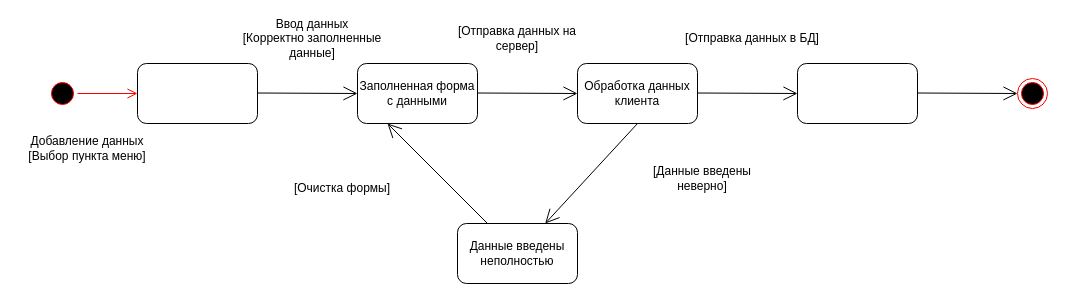
Some shapes in this 1065 by 301 pixel diagram are drawn without their labels. Here are the shapes that lost their labels. From the top down, the centre of each, then its label:
the point at 197,93: Окно добавления клиента
the point at 857,93: Данных в БД
